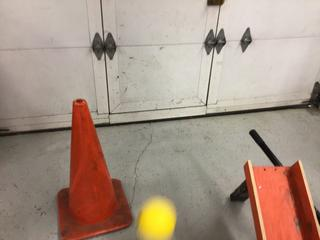power_cell: (133, 194, 179, 240)
